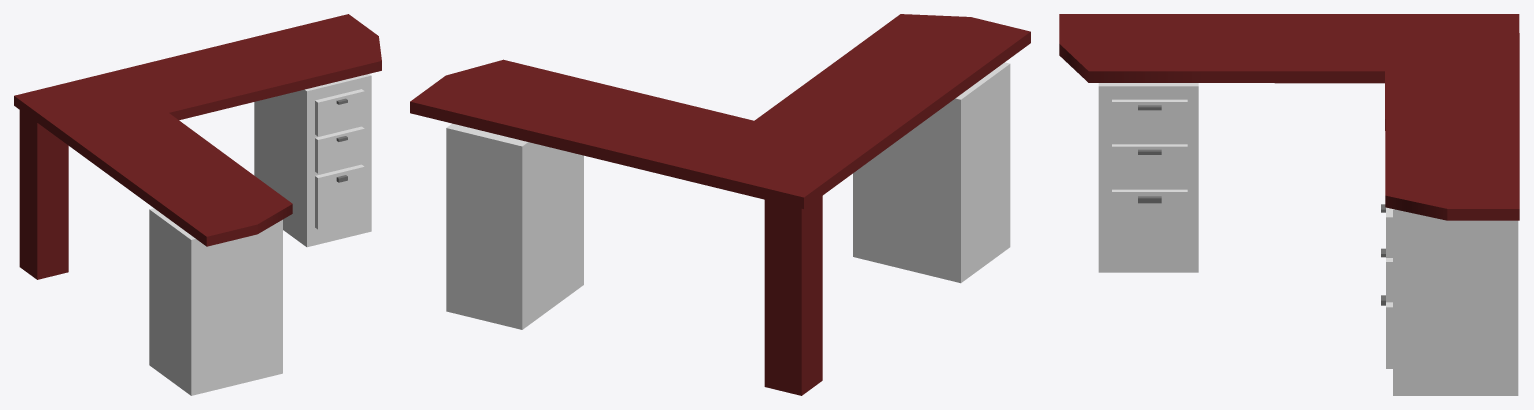
File: Desk_CornerRed.fbx
The picture shows the model from 3 angles, left to right: view 1: azimuth 30°, elevation 25°; view 2: azimuth 150°, elevation 25°; view 3: azimuth 270°, elevation 25°; orthographic projection. The views are drawn at different scales.
Parts seen in each view (by area): view 1: DeskCorner2:polySurface4; view 2: DeskCorner2:polySurface4; view 3: DeskCorner2:polySurface4.
Part boxes in pixels (bbox=[...]): DeskCorner2:polySurface4: bbox=[14, 14, 381, 395]; DeskCorner2:polySurface4: bbox=[410, 14, 1030, 395]; DeskCorner2:polySurface4: bbox=[1059, 14, 1519, 395].
Size of the model in its own units: 1.48 by 0.7224 by 1.47.
